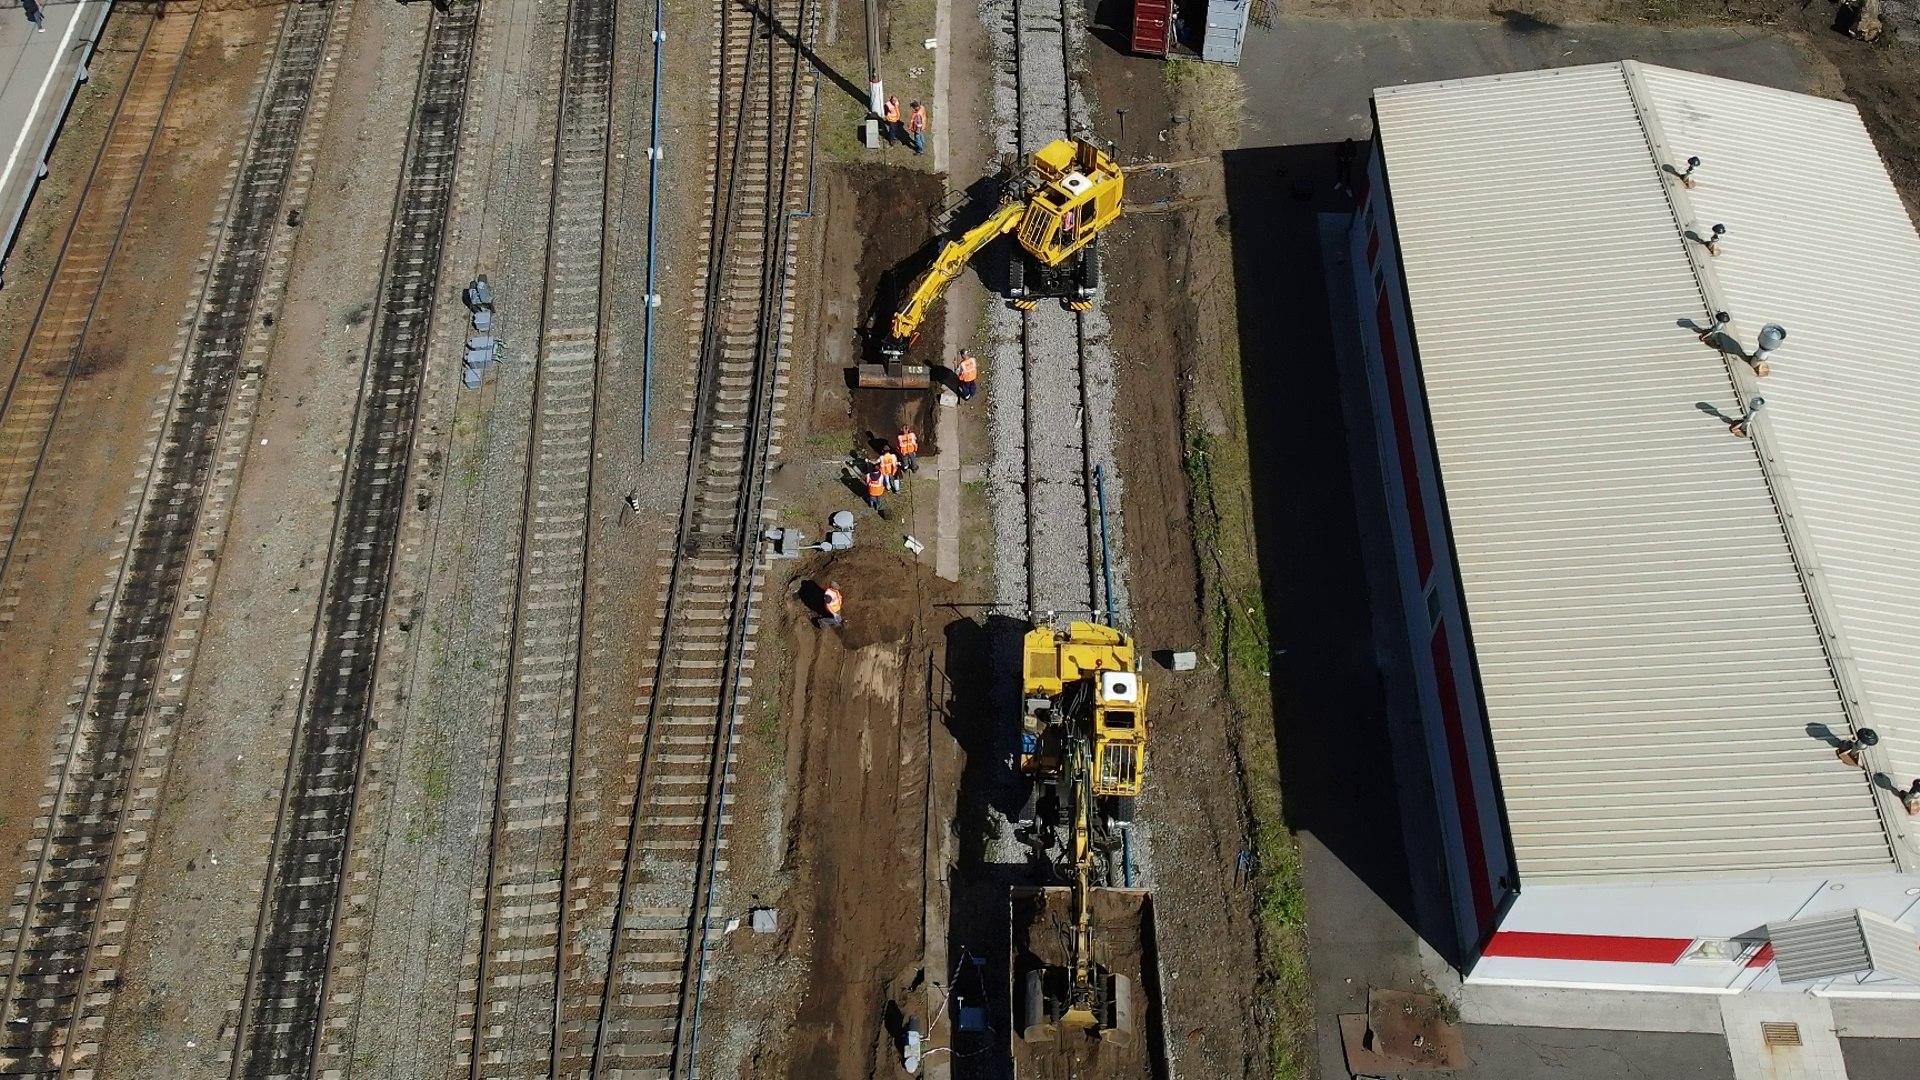kjtv: (1010, 610, 1150, 799), (997, 136, 1127, 267)
